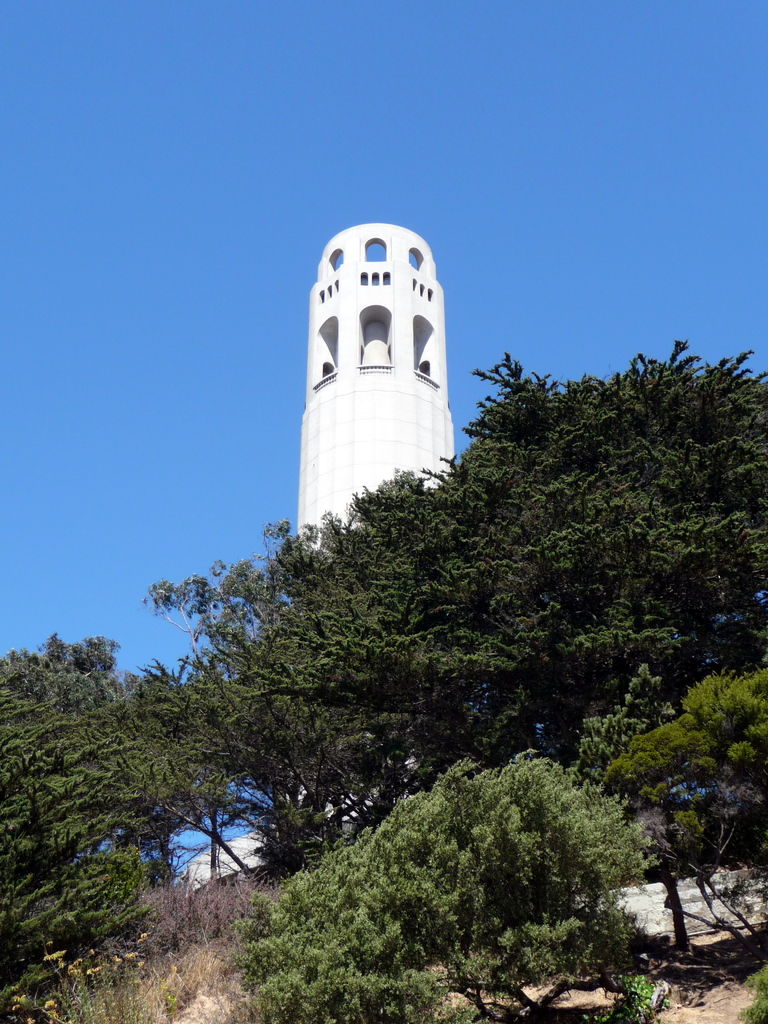Tree: (0, 339, 768, 1024)
